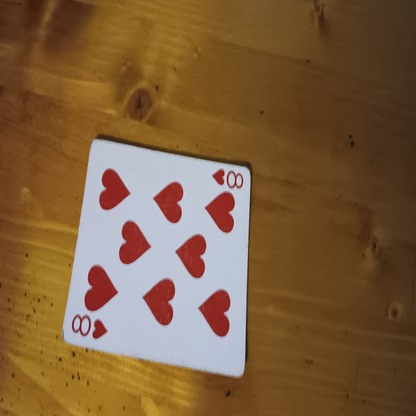8h: (69, 314, 107, 339), (209, 166, 243, 191)
